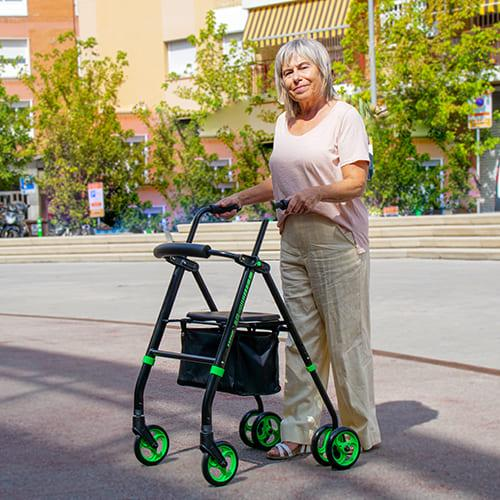walking_frame: (131, 38, 382, 486)
